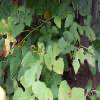grape leaf black rot: (20, 51, 44, 89), (44, 43, 65, 75), (57, 79, 85, 99), (65, 15, 83, 43), (54, 2, 71, 29), (82, 15, 96, 43), (84, 44, 97, 70)
